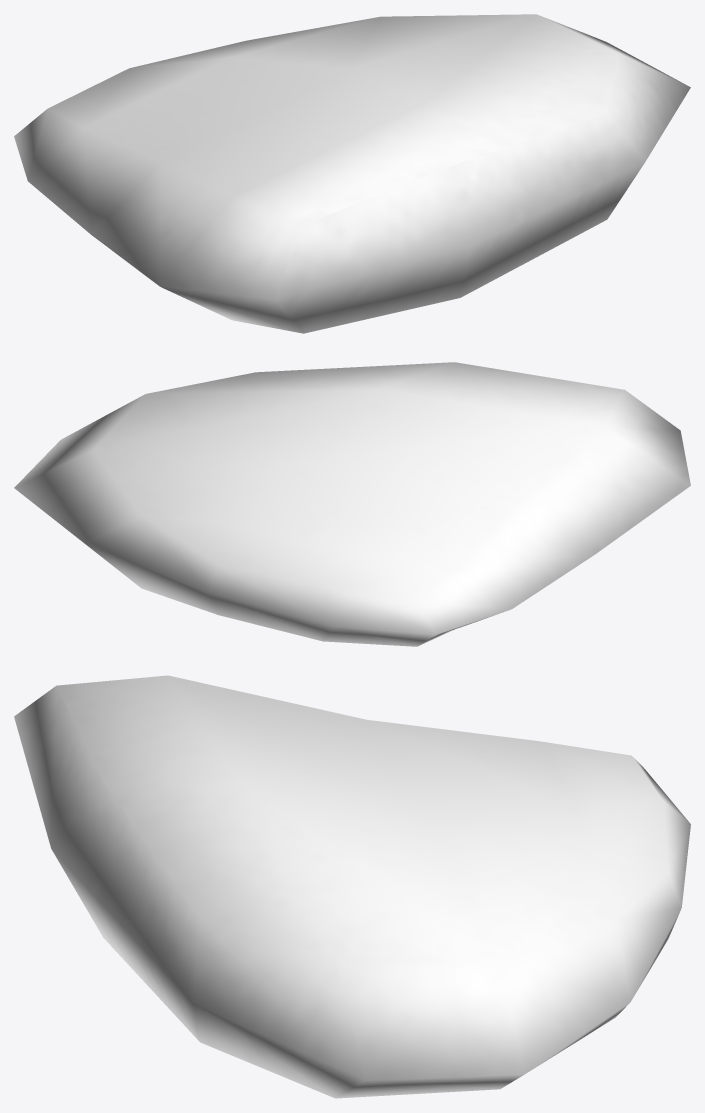
The model's file is rock_small_c_00.obj.
3 views of the same model, one above another, from view 1: azimuth 30°, elevation 25°; view 2: azimuth 150°, elevation 25°; view 3: azimuth 270°, elevation 25° (orthographic). The views are drawn at different scales.
Size of the model in its own units: 0.8881 by 0.2276 by 0.7133.
